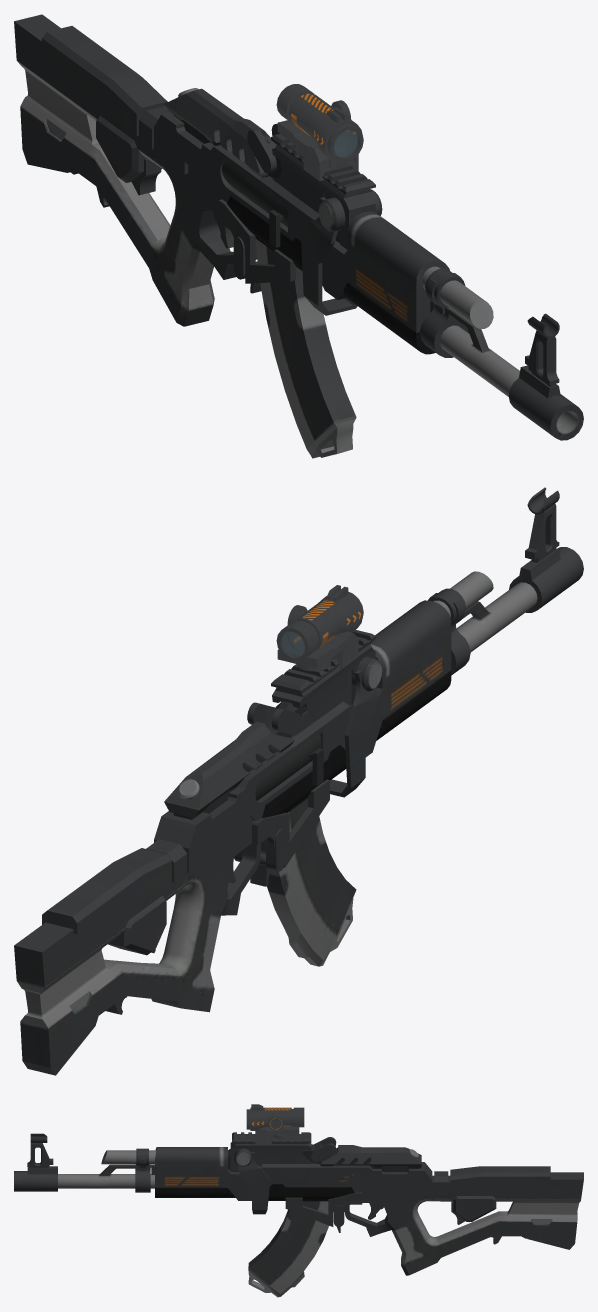
3 views of the same model, one above another, from view 1: azimuth 30°, elevation 25°; view 2: azimuth 150°, elevation 25°; view 3: azimuth 270°, elevation 25° (orthographic). The views are drawn at different scales.
Parts seen in each view (by area): view 1: Cube.007, Cylinder.002; view 2: Cube.007, Cylinder.002; view 3: Cube.007, Cylinder.002.
Boxes of the visible parts, box(x1,y1,x2,y2) form: Cube.007: box(14, 14, 583, 458); Cylinder.002: box(276, 84, 363, 181); Cube.007: box(14, 487, 583, 1075); Cylinder.002: box(276, 585, 363, 671); Cube.007: box(14, 1132, 583, 1297); Cylinder.002: box(246, 1104, 304, 1144).
Size of the model in its own units: 0.5232 by 3.58 by 9.73.
Materials: 2 (2 with a texture image).
